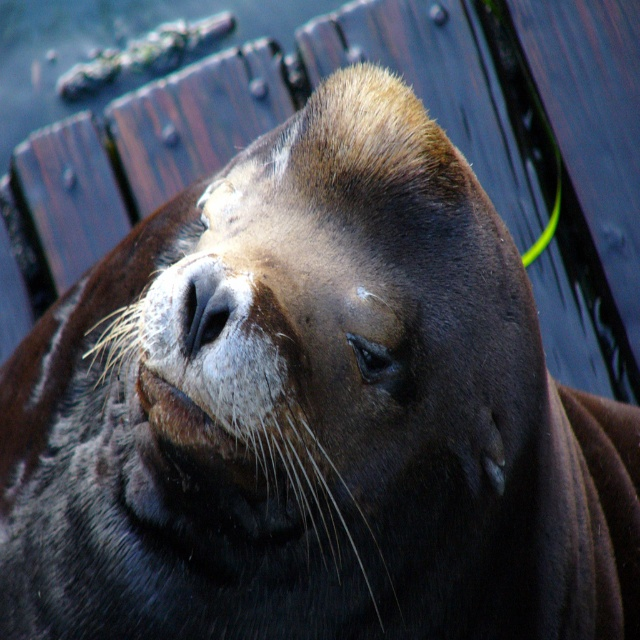Harbor seal: (0, 88, 626, 640)
